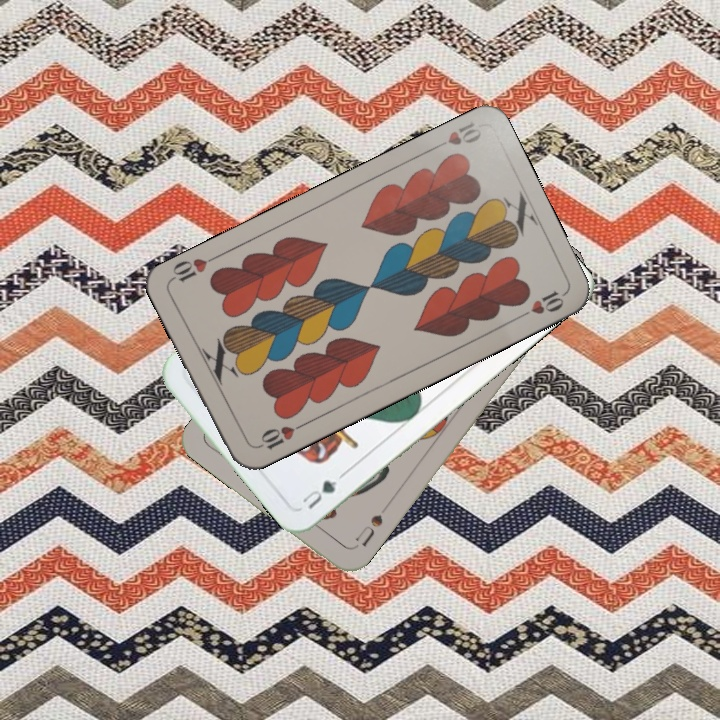GU: (298, 475, 340, 512)
H10: (427, 117, 484, 153), (251, 419, 307, 453)
SU: (349, 510, 386, 552)
